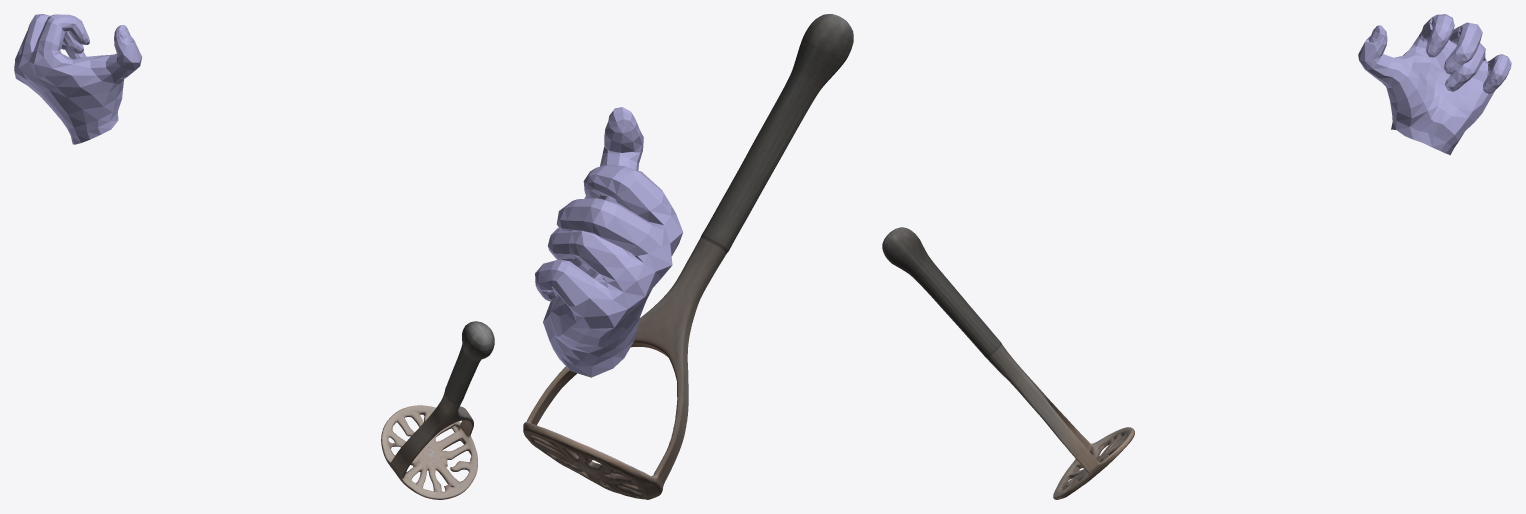
File: frame_0096_source_000096_hand_object.glb
The picture shows the model from 3 angles, left to right: view 1: azimuth 30°, elevation 25°; view 2: azimuth 150°, elevation 25°; view 3: azimuth 270°, elevation 25°; orthographic projection. The views are drawn at different scales.
Visible parts, largest first — view 1: world; view 2: world; view 3: world.
Boxes of the visible parts, bbox=[...] form: world: bbox=[14, 14, 494, 499]; world: bbox=[523, 14, 853, 499]; world: bbox=[882, 14, 1511, 499].
Size of the model in its own units: 0.2485 by 0.3465 by 0.5053.
